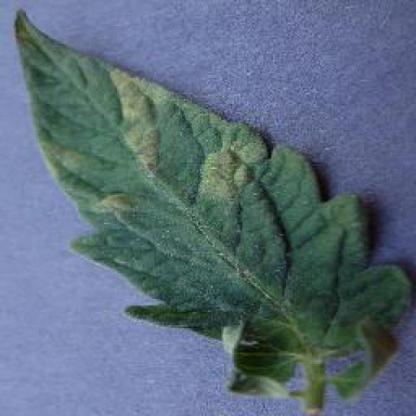Tomato_Leaf_Mold: (16, 12, 411, 394)
